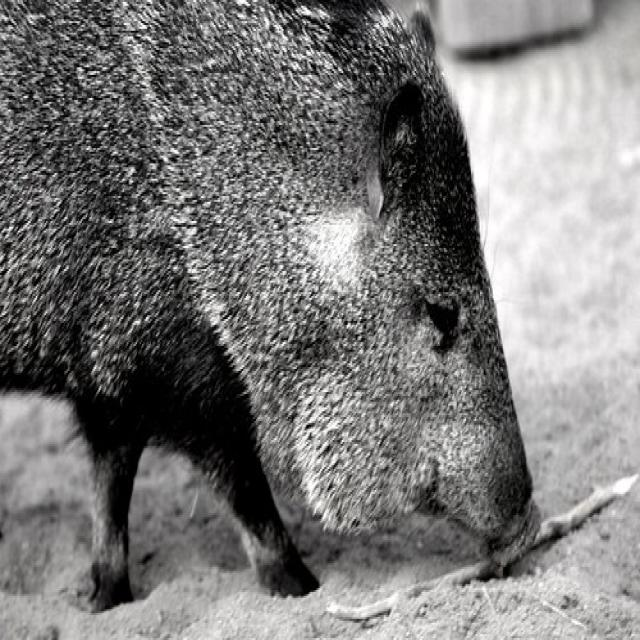boar: (0, 0, 562, 623)
